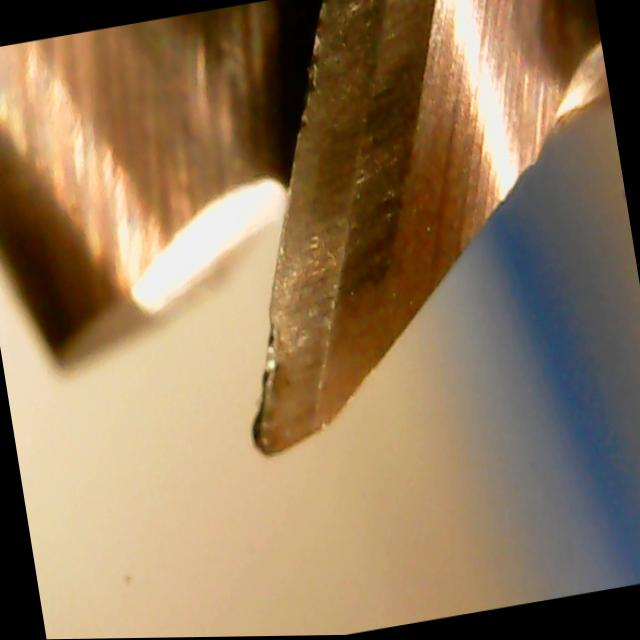Tool-wear-class-1: (203, 201, 434, 468)
